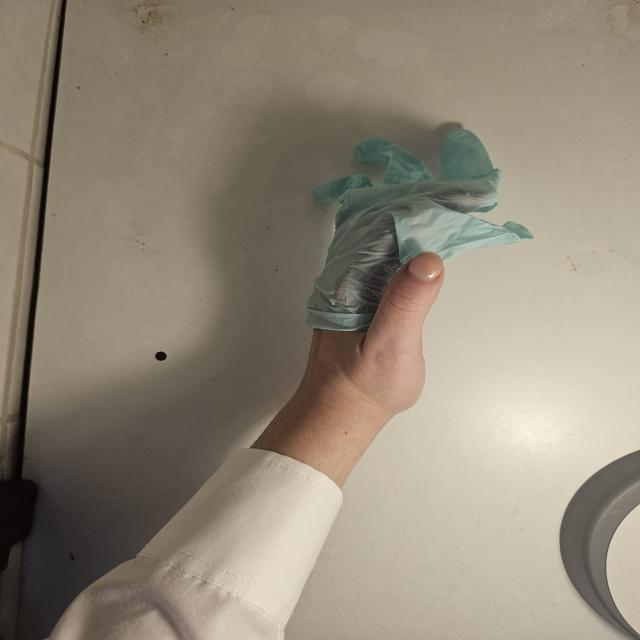glove_partial: (300, 126, 534, 417)
